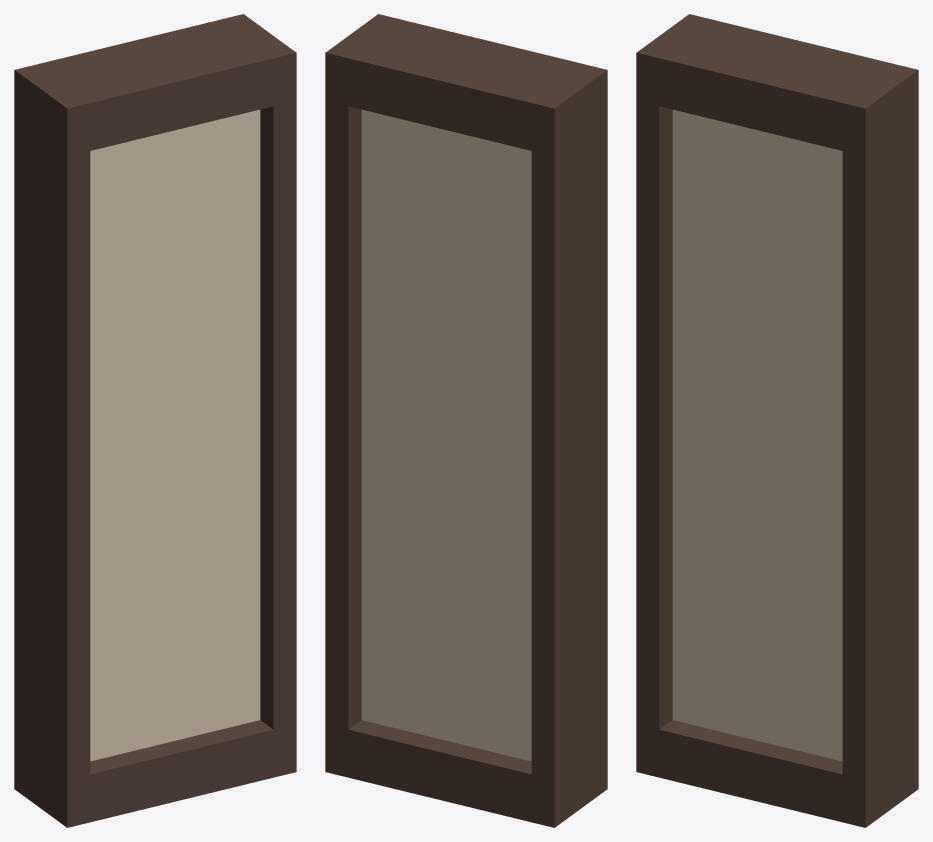
Rendered from fantasy_wall_3_panel.fbx.
The picture shows the model from 3 angles, left to right: view 1: azimuth 30°, elevation 25°; view 2: azimuth 150°, elevation 25°; view 3: azimuth 330°, elevation 25°; orthographic projection.
Parts seen in each view (by area): view 1: Cube.031; view 2: Cube.031; view 3: Cube.031.
Part boxes in pixels (x1=…): Cube.031: x1=14, y1=14, x2=296, y2=827; Cube.031: x1=325, y1=14, x2=607, y2=827; Cube.031: x1=636, y1=14, x2=918, y2=827.
Bounding box in the file's own units: 100 × 300 × 40.
